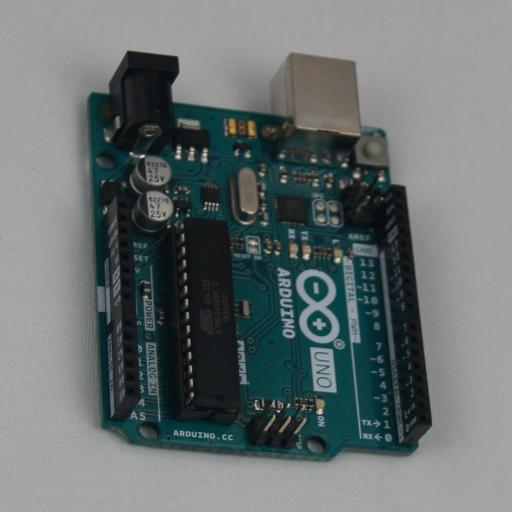Arduino Uno -Green-: (85, 50, 432, 462)
